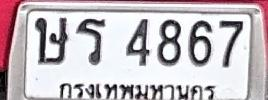4: (125, 18, 150, 66)
6: (188, 20, 213, 66)
7: (219, 20, 243, 68)
8: (156, 19, 180, 66)
A35: (76, 18, 106, 65)
A39: (34, 16, 68, 65)
BKK: (55, 79, 219, 100)
